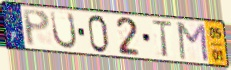0: (86, 14, 111, 54)
2: (115, 16, 141, 58)
M: (177, 21, 211, 64)
P: (21, 8, 52, 48)
T: (150, 19, 174, 59)
U: (49, 10, 79, 51)
